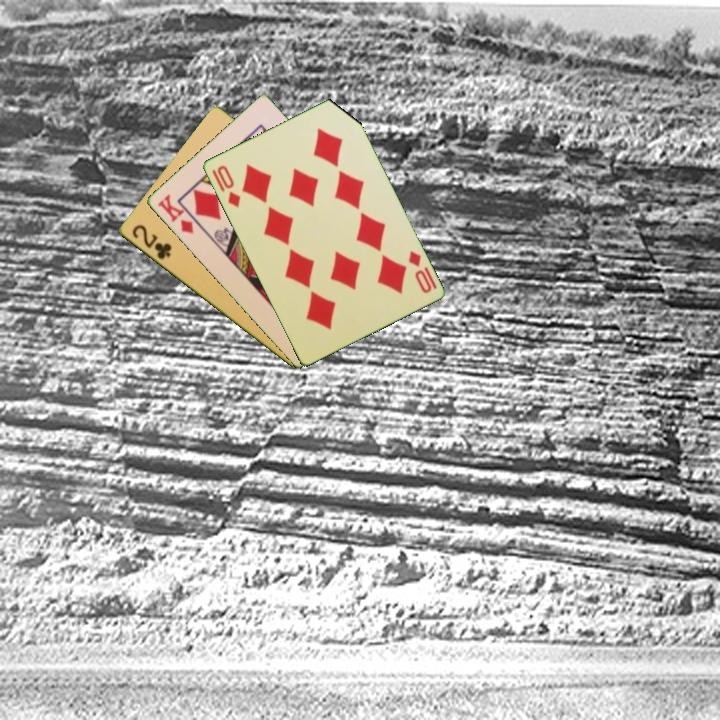10d: (208, 161, 243, 211), (404, 247, 434, 296)
2c: (128, 221, 174, 263)
Kd: (154, 191, 204, 237)
